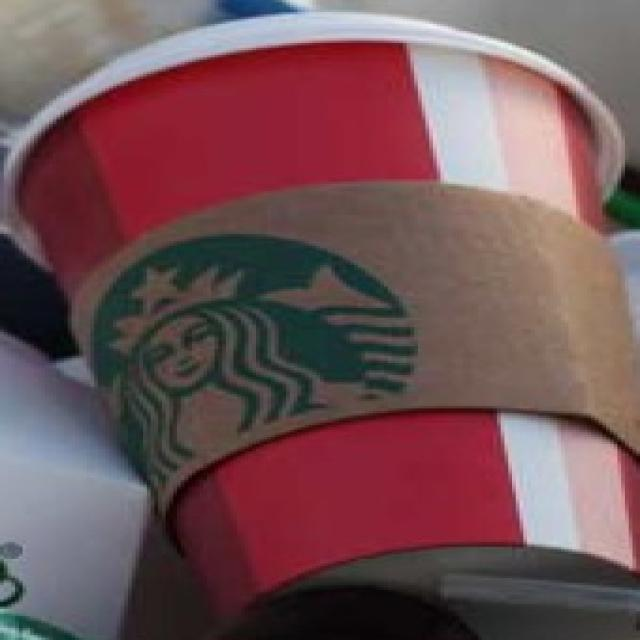plastic cup: (22, 0, 640, 631)
